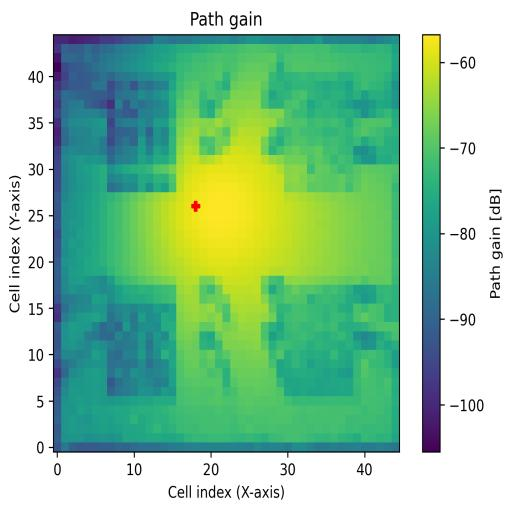Concrete: (284, 71, 360, 192)
Glass: (106, 69, 177, 192)
Metal: (284, 286, 354, 396)
Wood: (108, 286, 178, 400)
